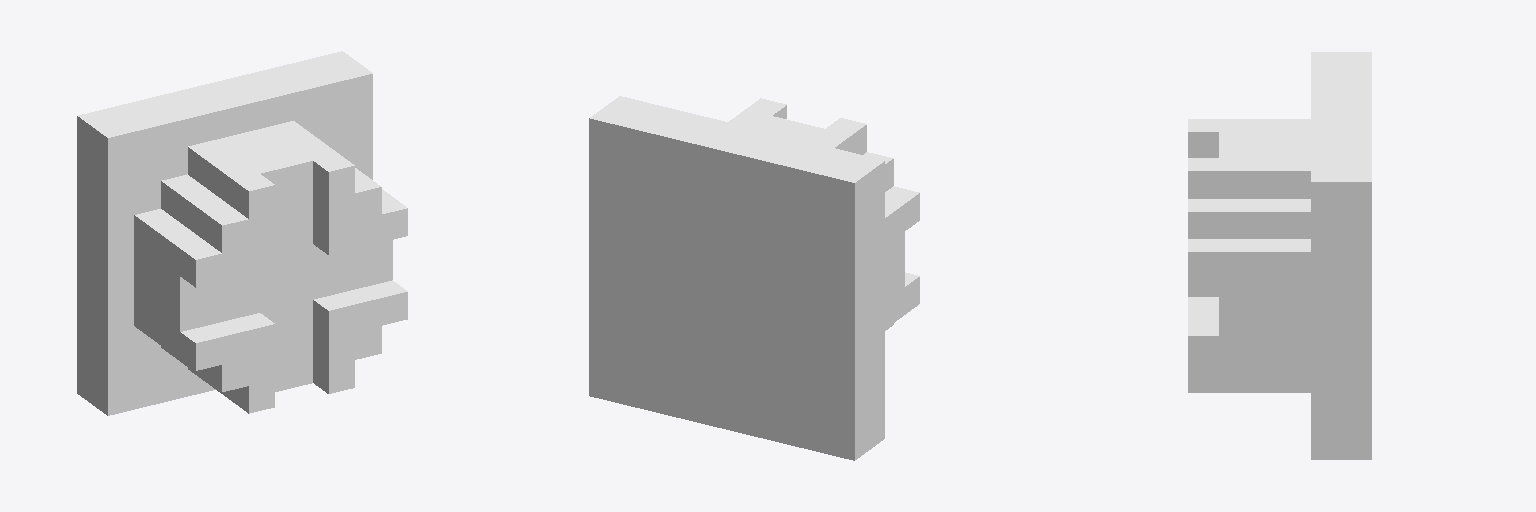
Rendered from switchOff.obj.
3 views of the same model, side by side, from view 1: azimuth 30°, elevation 25°; view 2: azimuth 150°, elevation 25°; view 3: azimuth 270°, elevation 25° (orthographic).
Visible parts, largest first — view 1: object 1; view 2: object 1; view 3: object 1.
Part boxes in pixels (bbox=[...]): object 1: bbox=[77, 51, 407, 415]; object 1: bbox=[589, 96, 919, 460]; object 1: bbox=[1188, 52, 1371, 459].
Bounding box in the file's own units: 1 × 1 × 0.6.